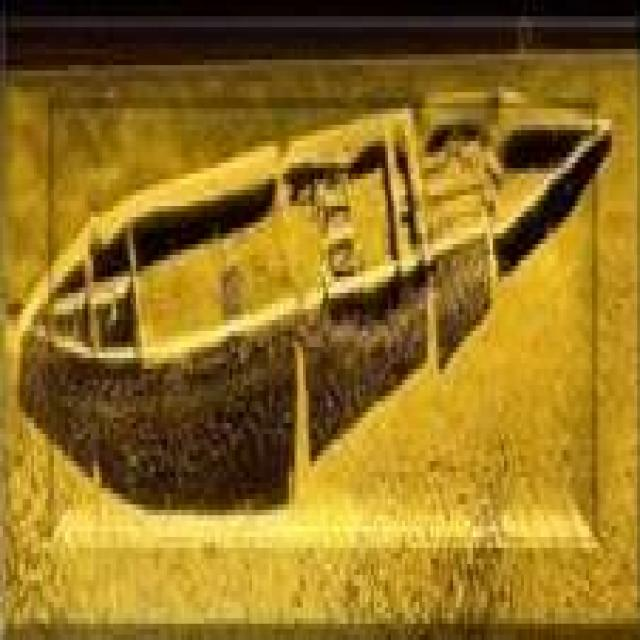ship: (14, 81, 615, 466)
